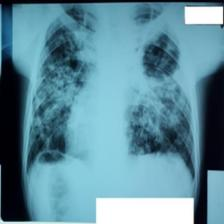tuberculosis: (24, 4, 198, 186)
